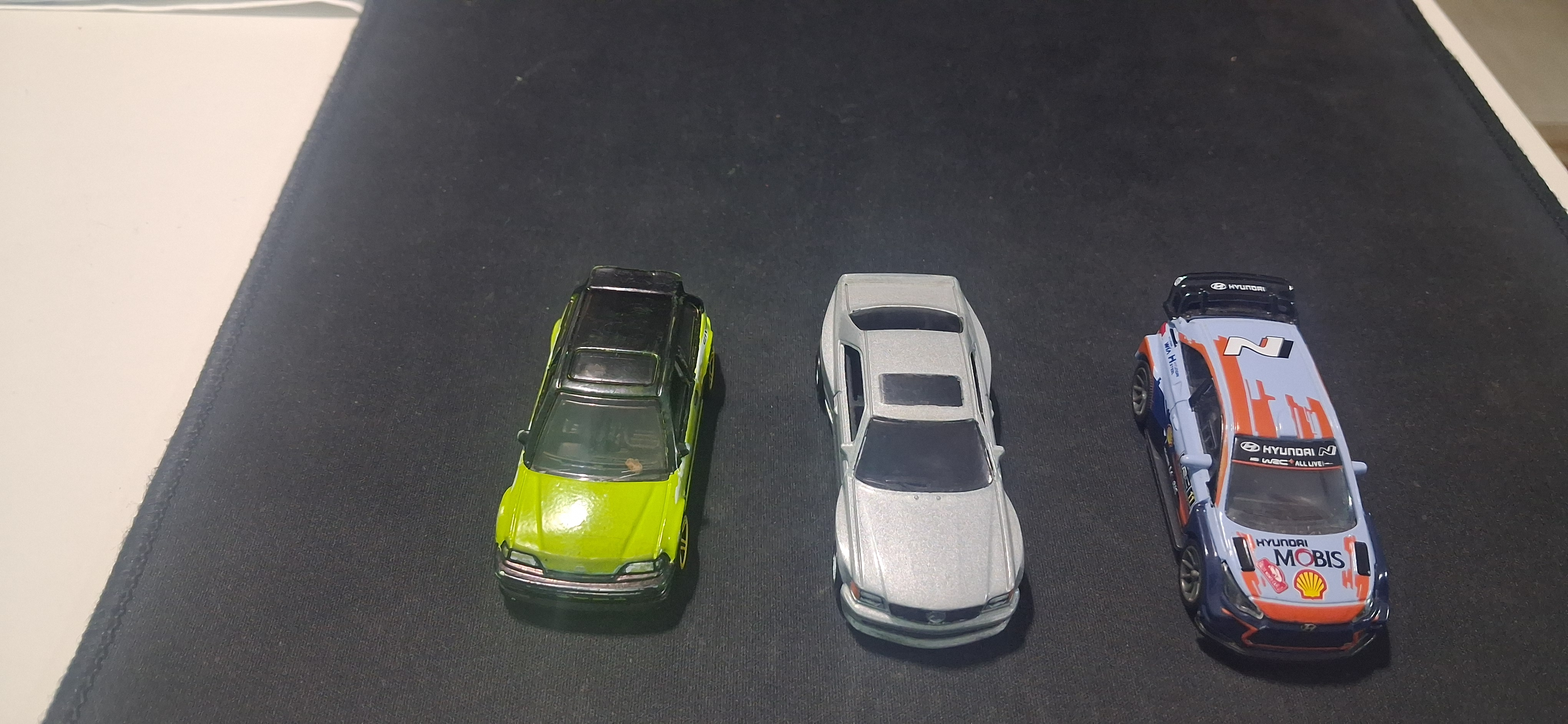Honda_Civic: (477, 220, 750, 677)
Hyundai_I20_WRC: (1102, 264, 1418, 690)
Mercedes_Benz_560_SEC_AMG: (784, 236, 1049, 694)
